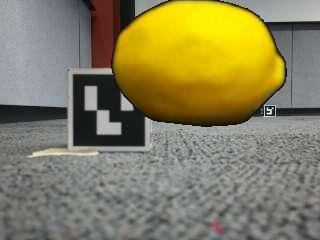lemon: (118, 2, 286, 127)
